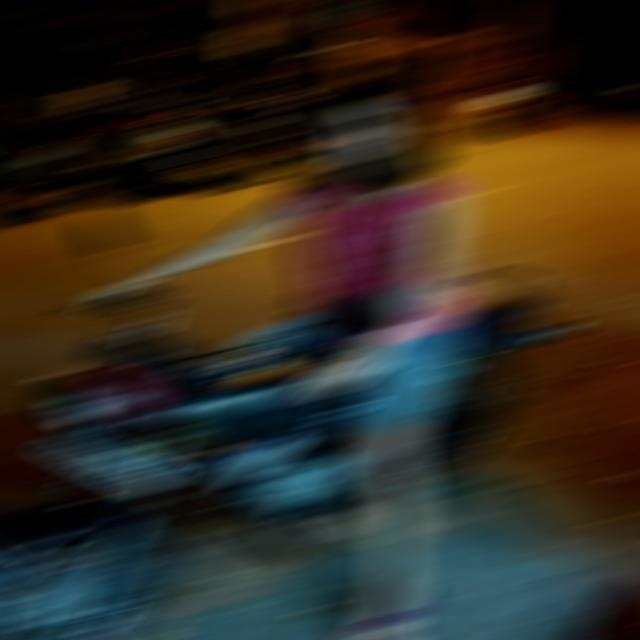Without Helmet: (298, 73, 432, 183)
